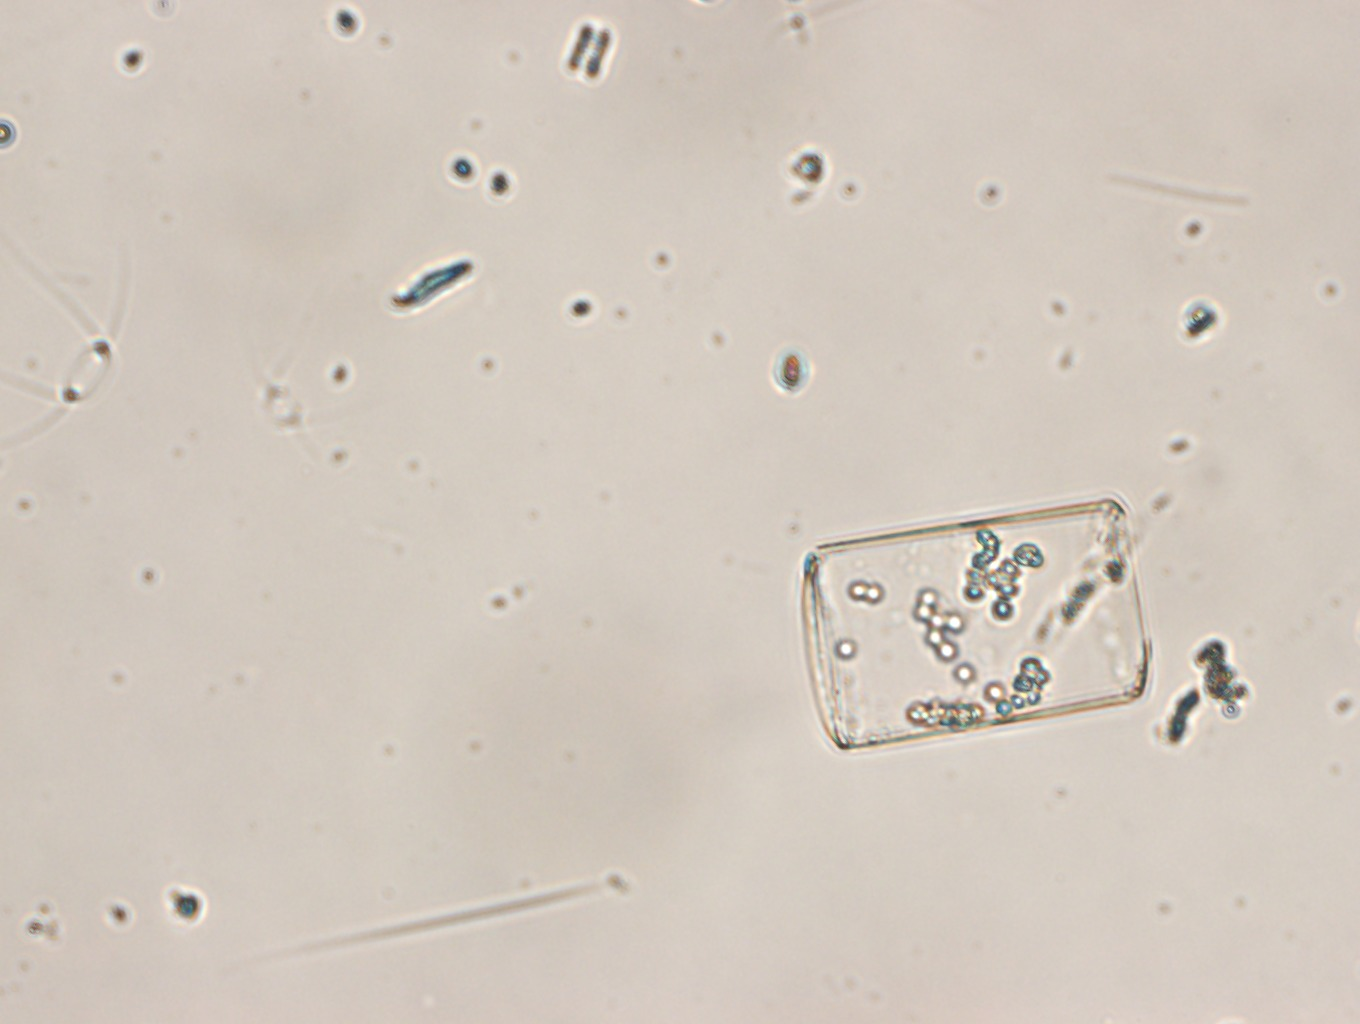guinardia flaccida: (799, 497, 1150, 752)
